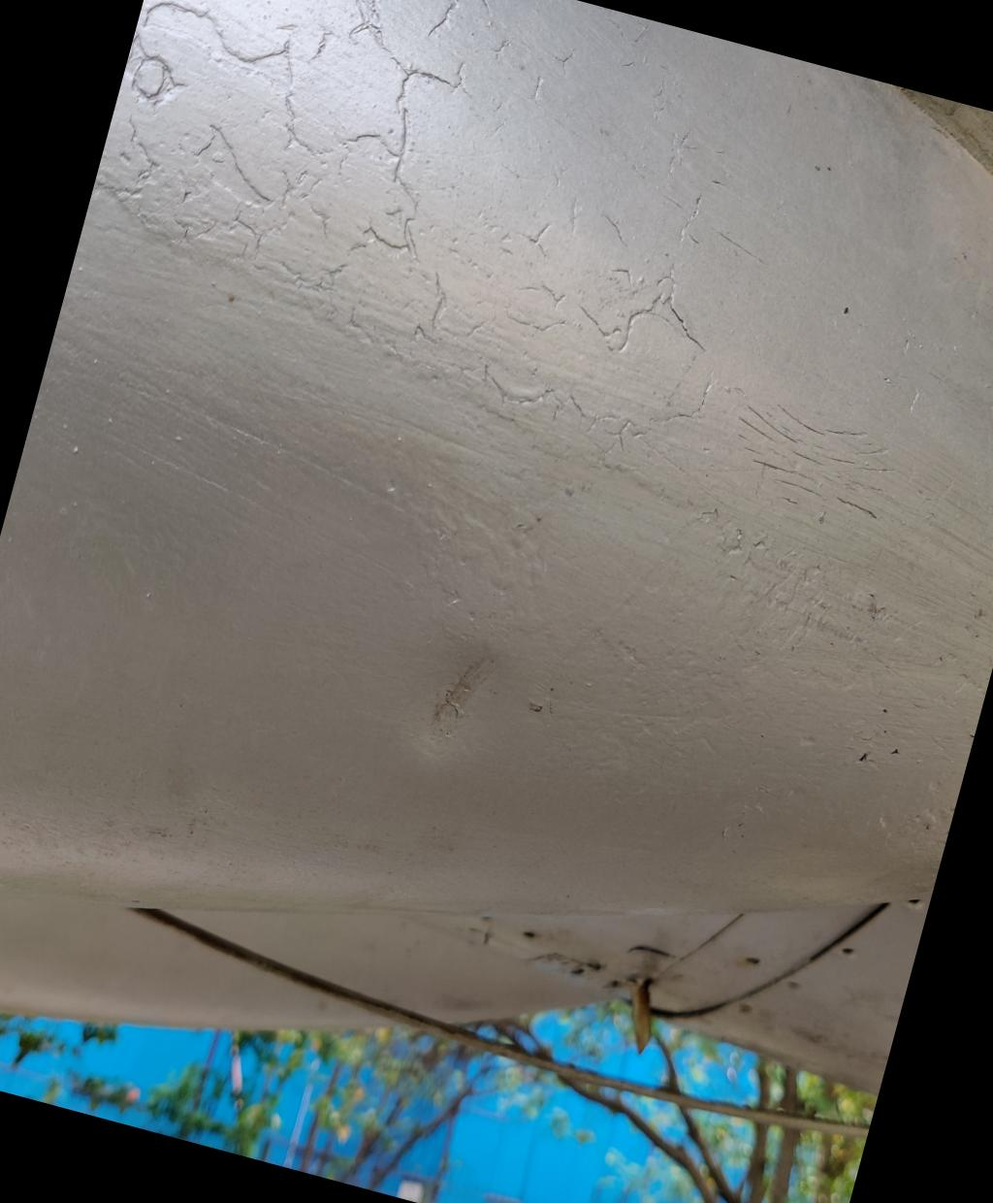dent: (370, 590, 549, 787)
